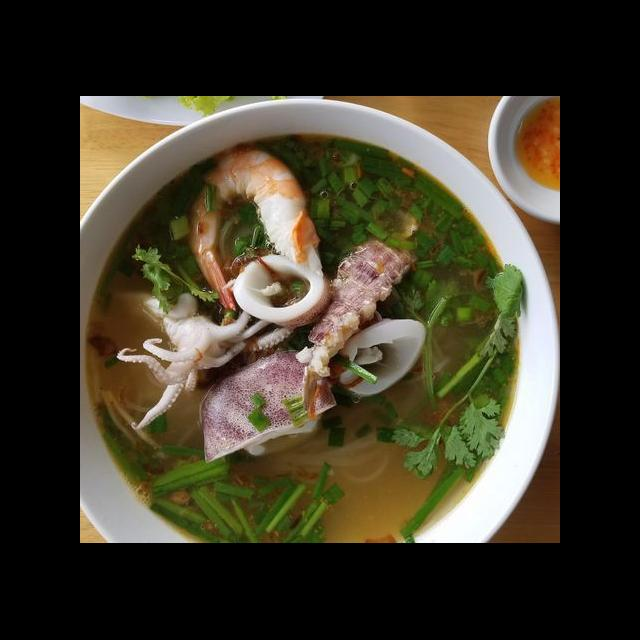muc: (114, 276, 295, 432), (198, 343, 340, 468), (320, 312, 430, 402)
tom: (184, 136, 325, 318)
tom tit: (291, 228, 429, 378)
